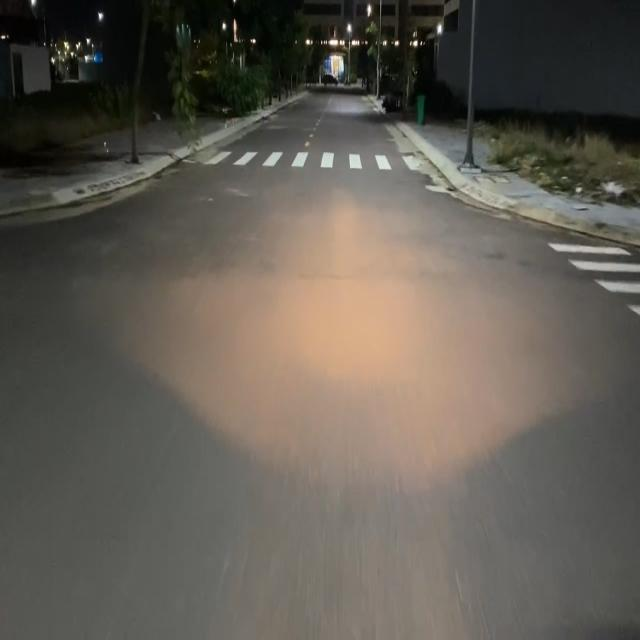walk-crossing: (537, 240, 640, 380), (188, 140, 426, 177)
